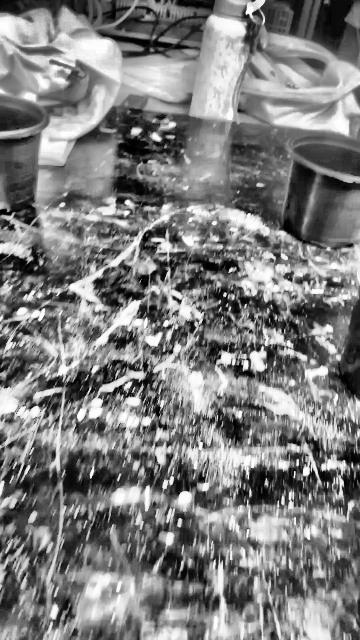pot: (283, 134, 359, 247), (0, 95, 48, 212)
